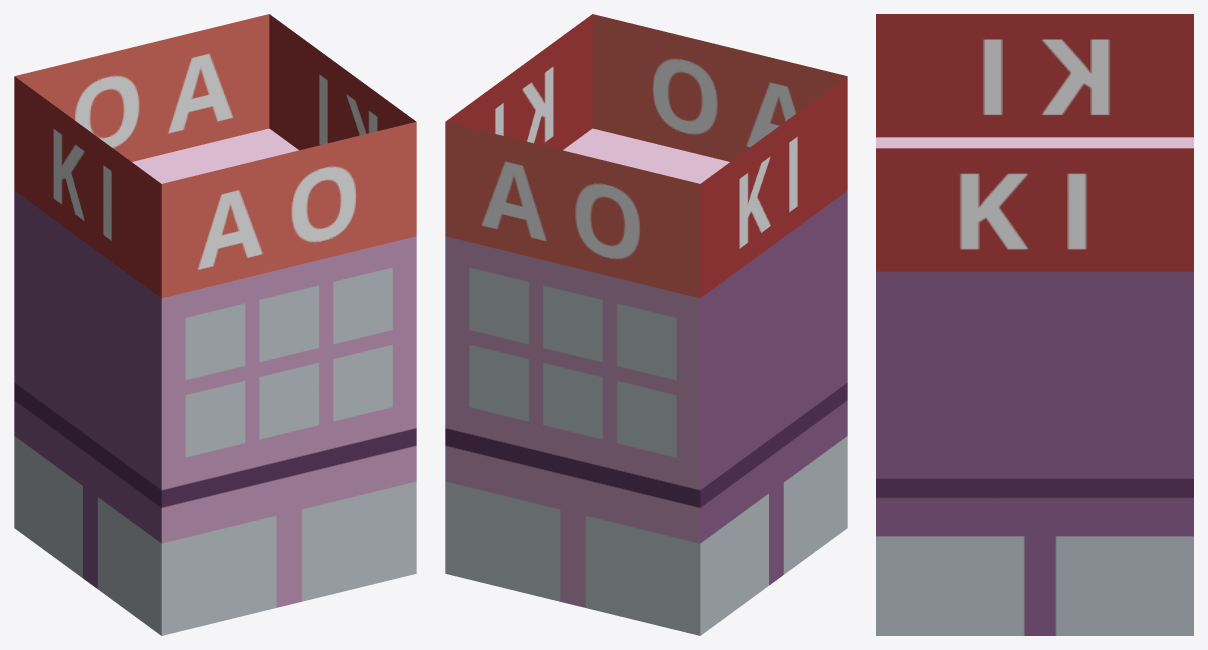
File: buildingA.fbx
The picture shows the model from 3 angles, left to right: view 1: azimuth 30°, elevation 25°; view 2: azimuth 150°, elevation 25°; view 3: azimuth 270°, elevation 25°; orthographic projection. The views are drawn at different scales.
Visible parts, largest first — view 1: building, board; view 2: building, board; view 3: building, board.
Boxes of the visible parts, x1,y1,x2,y2 form: building: [14, 128, 416, 635]; board: [14, 14, 416, 298]; building: [445, 128, 847, 635]; board: [445, 14, 847, 298]; building: [876, 137, 1193, 635]; board: [876, 14, 1193, 271].
Size of the model in its own units: 163 by 276 by 163.
1 material, 1 textured.
